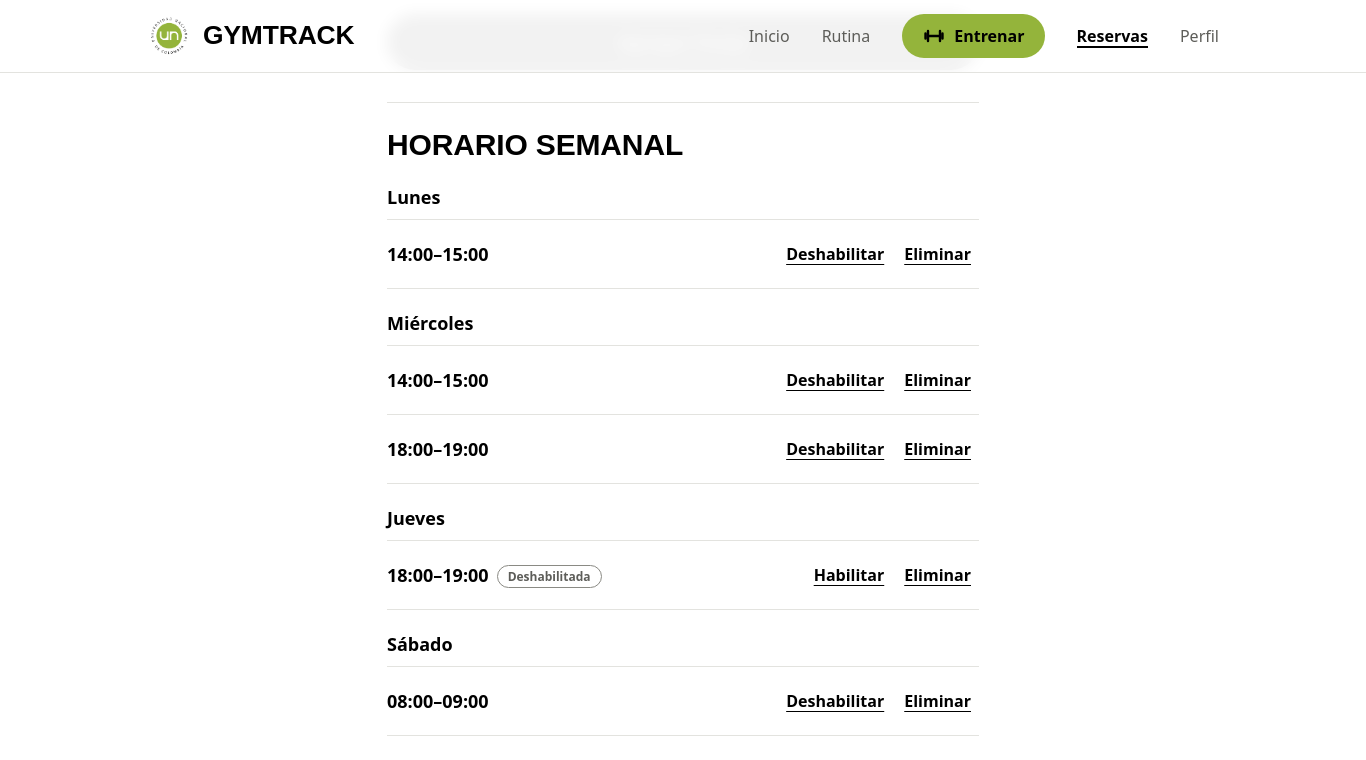
Scenario: franjas de la cancha: personal de deportes (GYMM-20) › deshabilita, habilita y elimina una franja (con confirmación)
(page scrolled)
Step 1. Click the button with aria-label "Deshabilitar miércoles de 18:00 a 19:00" → [835, 449], box top-left (778, 427), bottom-right (892, 471)
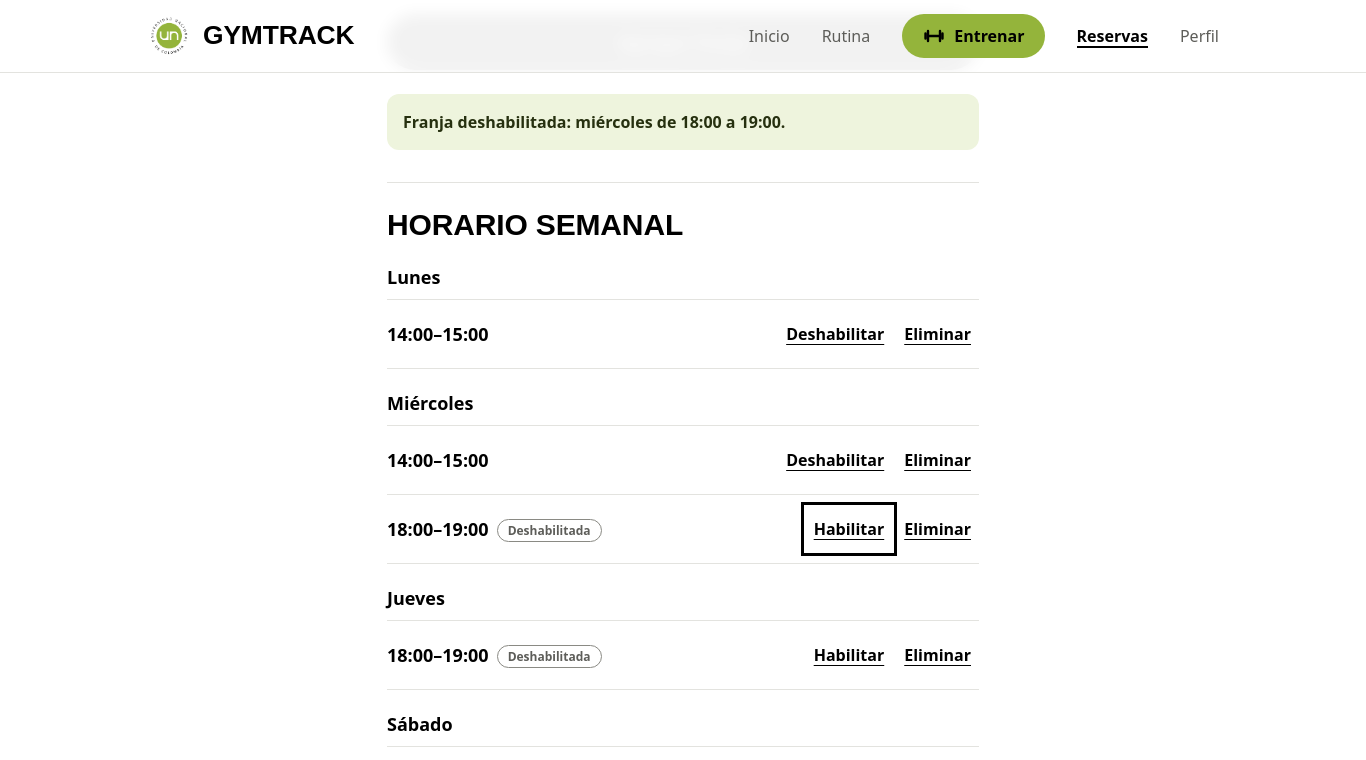
expect the text "Franja deshabilitada: miércoles de 18:00 a 19:00." is shown: met, box top-left (387, 94), bottom-right (979, 150)
expect the 1st text "Deshabilitada" is shown: met, box top-left (497, 519), bottom-right (602, 542)
Step 2. Click the button with aria-label "Habilitar jueves de 18:00 a 19:00" → [849, 655], box top-left (806, 633), bottom-right (892, 677)
(page scrolled)
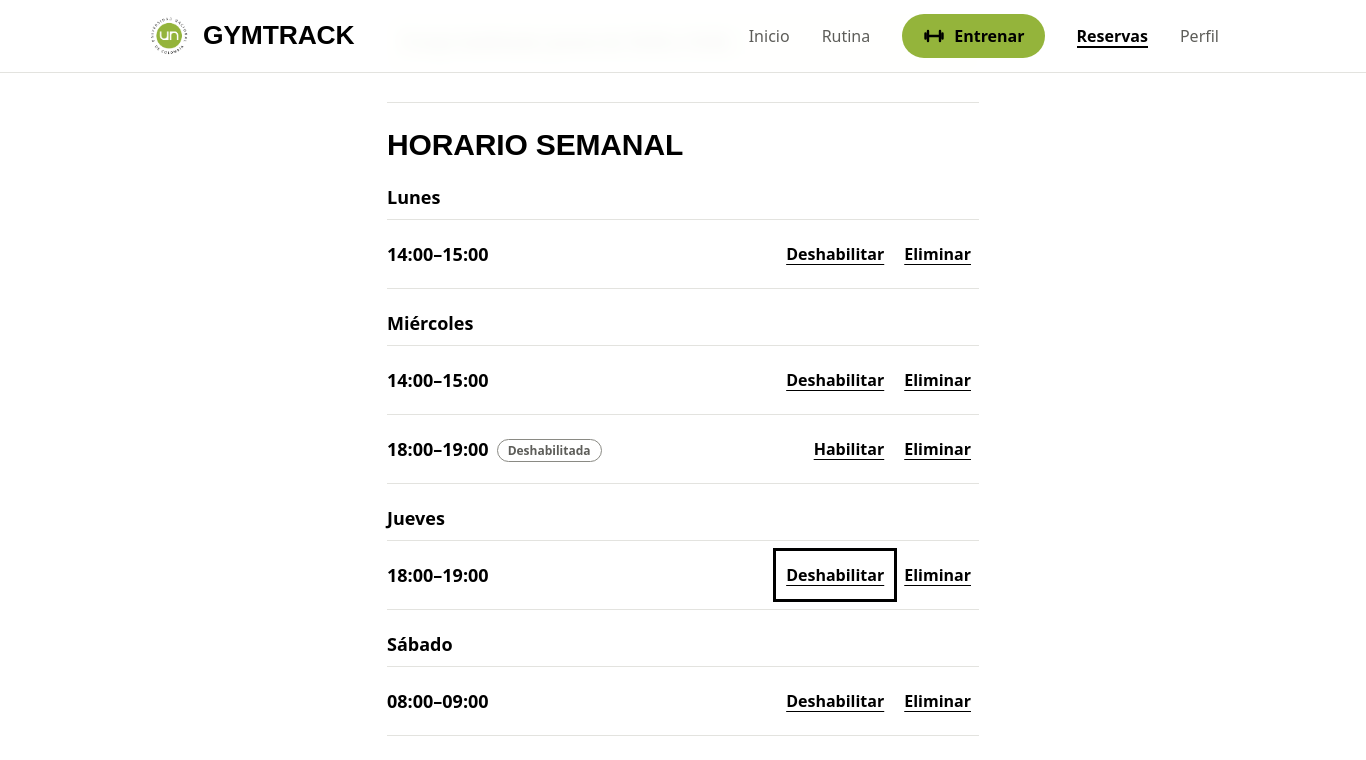
expect the text "Franja habilitada: jueves de 18:00 a 19:00." is shown: met, box top-left (387, 14), bottom-right (979, 70)
Step 3. Click the button with aria-label "Eliminar sábado de 08:00 a 09:00" → [938, 701], box top-left (896, 679), bottom-right (979, 723)
(page scrolled)
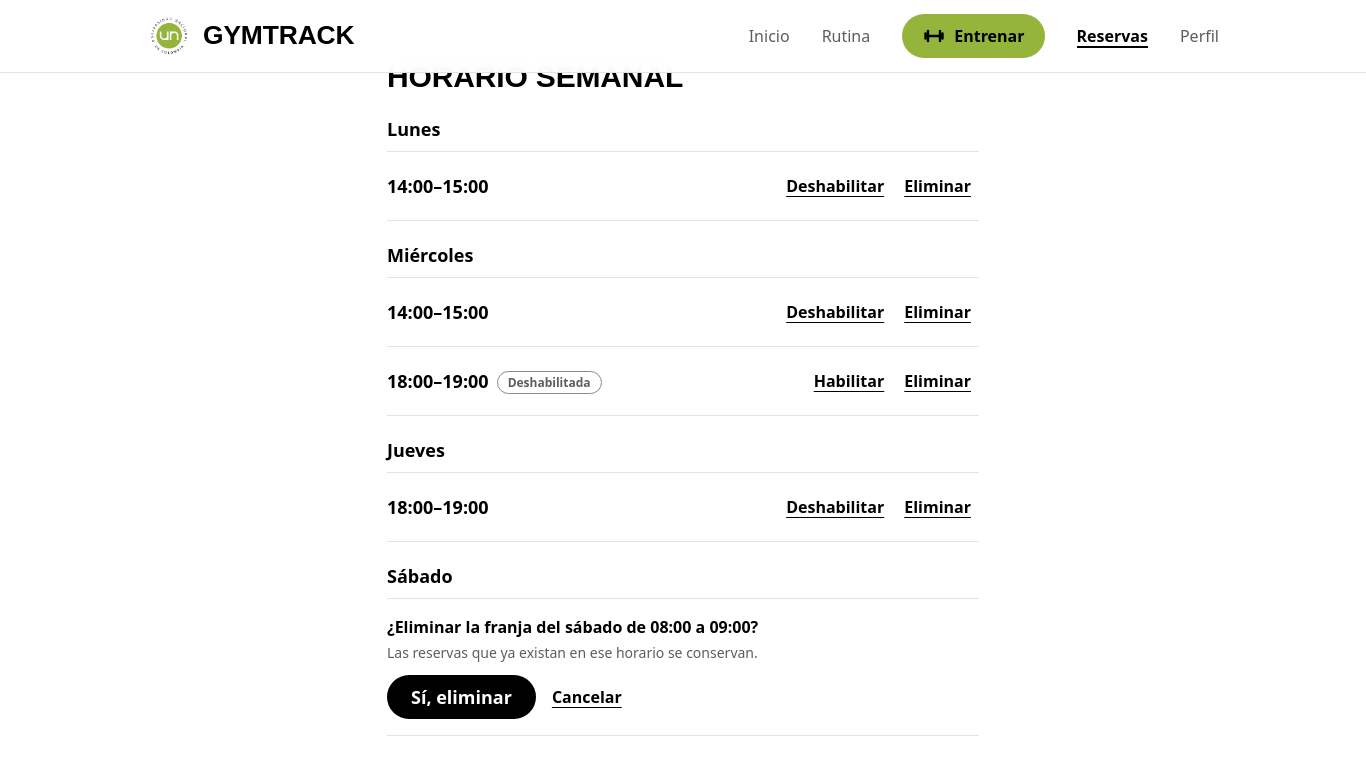
expect the dialog shows "¿Eliminar la franja del sábado de 08:00 a 09:00?": met, box top-left (387, 616), bottom-right (758, 719)
Step 4. Click the button "Sí, eliminar" → [461, 697], box top-left (387, 675), bottom-right (536, 719)
(page scrolled)
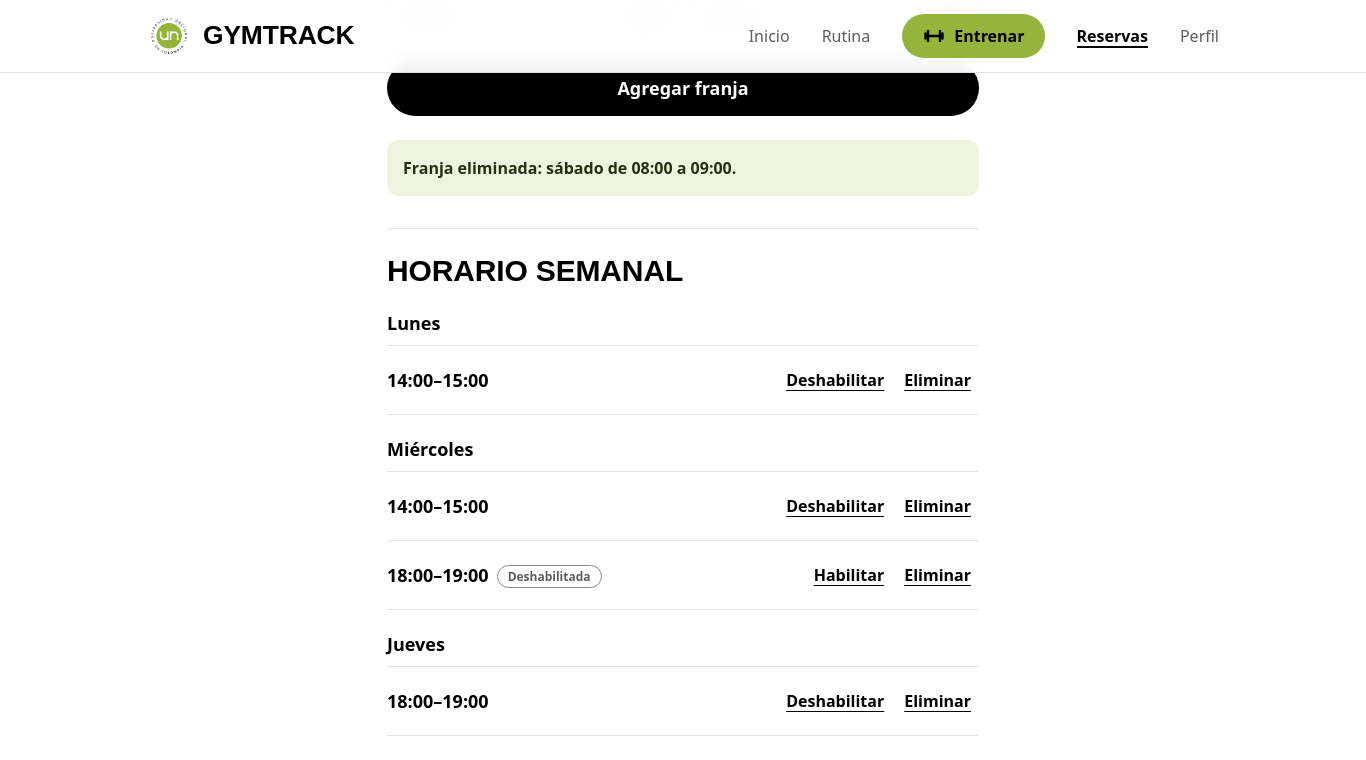
expect the text "Franja eliminada: sábado de 08:00 a 09:00." is shown: met, box top-left (387, 140), bottom-right (979, 196)
